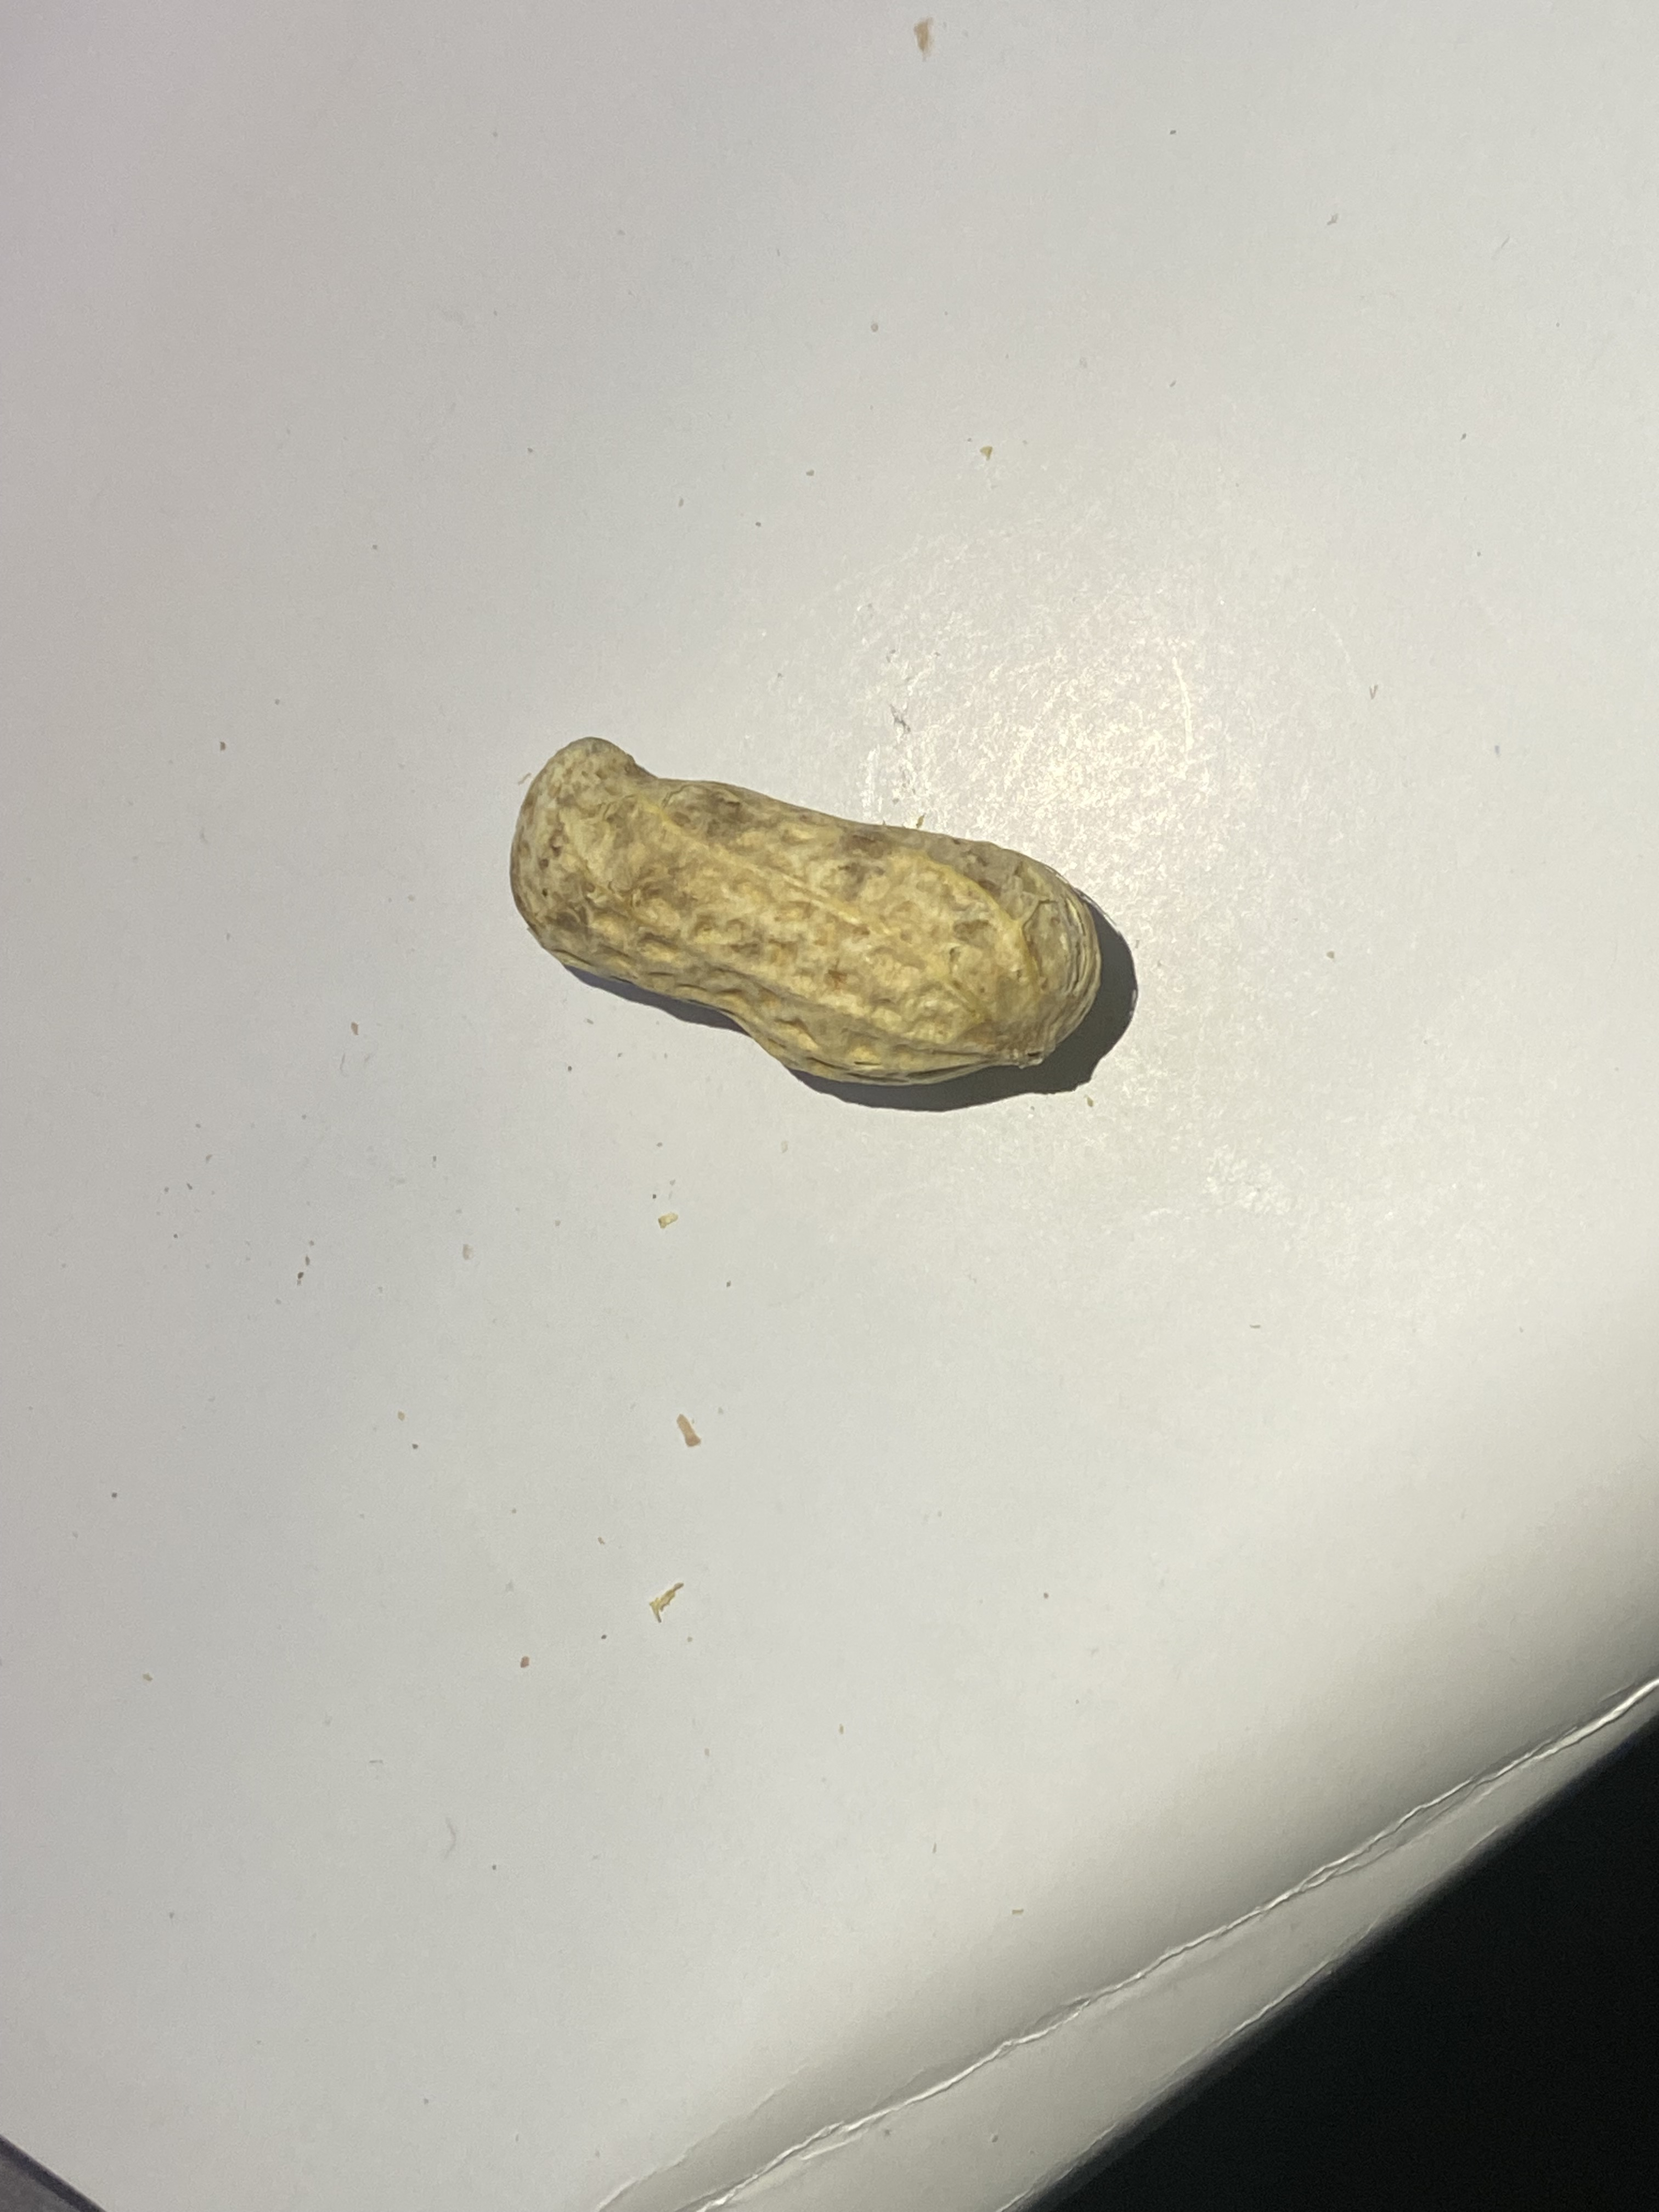kacang2: (432, 681, 1183, 1181)
